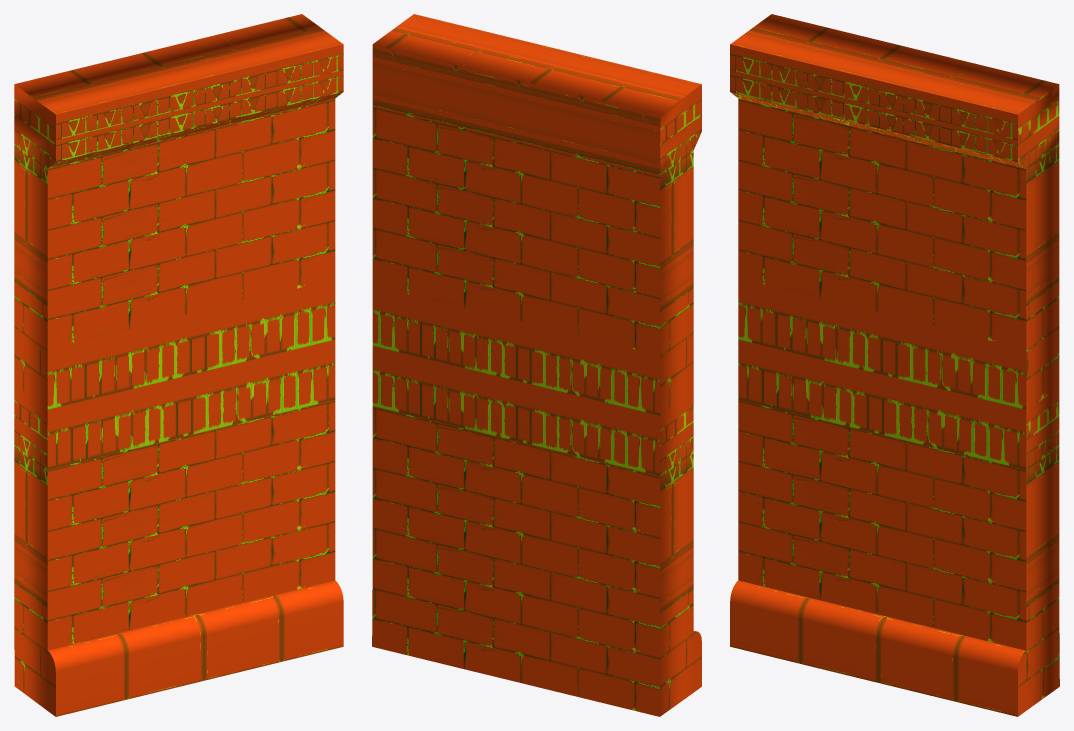
The model's file is Wall_ UV Complete.fbx.
3 renders of one model, left to right at view 1: azimuth 30°, elevation 25°; view 2: azimuth 150°, elevation 25°; view 3: azimuth 330°, elevation 25°, orthographic.
Parts seen in each view (by area): view 1: Wall_0021; view 2: Wall_0021; view 3: Wall_0021.
Part boxes in pixels (x1=…): Wall_0021: x1=14, y1=14, x2=343, y2=716; Wall_0021: x1=372, y1=14, x2=701, y2=716; Wall_0021: x1=730, y1=14, x2=1059, y2=716.
Bounding box in the file's own units: 200 × 400 × 50.
